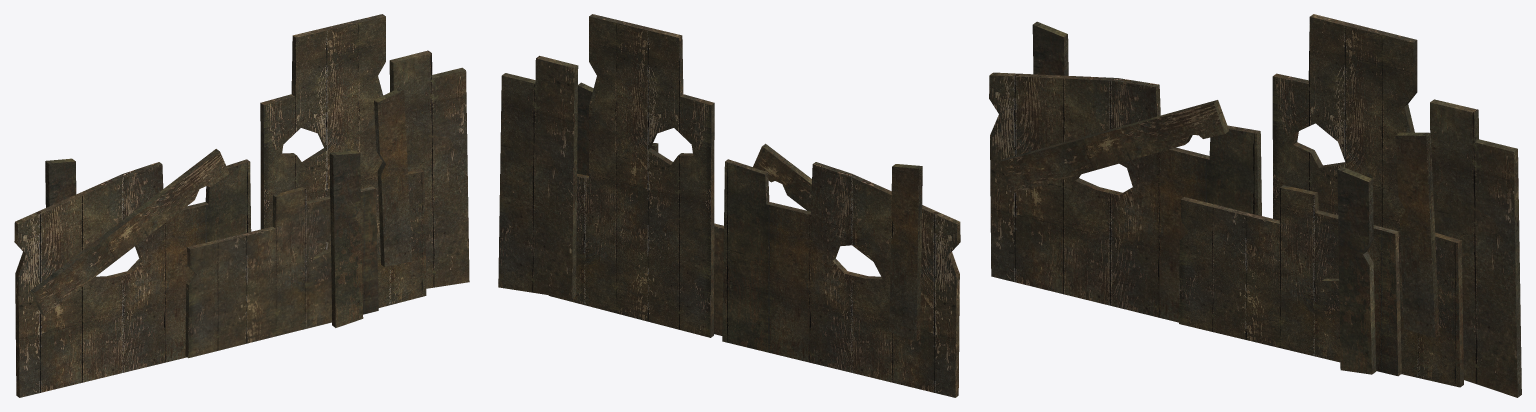
Rendered from wood2.fbx.
3 renders of one model, left to right at view 1: azimuth 30°, elevation 25°; view 2: azimuth 150°, elevation 25°; view 3: azimuth 330°, elevation 25°, orthographic. The views are drawn at different scales.
Parts seen in each view (by area): view 1: woodwall2; view 2: woodwall2; view 3: woodwall2.
Part boxes in pixels (x1=…): woodwall2: x1=14, y1=14, x2=469, y2=397; woodwall2: x1=498, y1=14, x2=960, y2=397; woodwall2: x1=989, y1=14, x2=1521, y2=397.
Bounding box in the file's own units: 996 × 614 × 51.92.
Materials: 1 (1 with a texture image).
